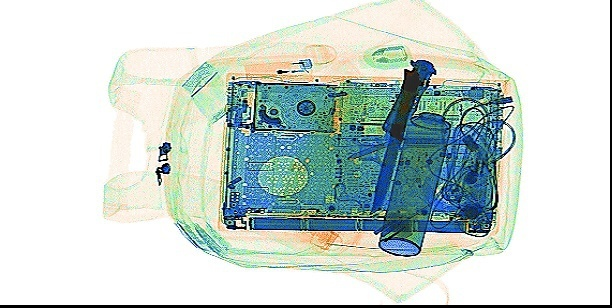knife: (365, 64, 420, 214), (377, 52, 437, 143)
lighter: (240, 52, 311, 79)
pressure: (374, 109, 453, 259)
